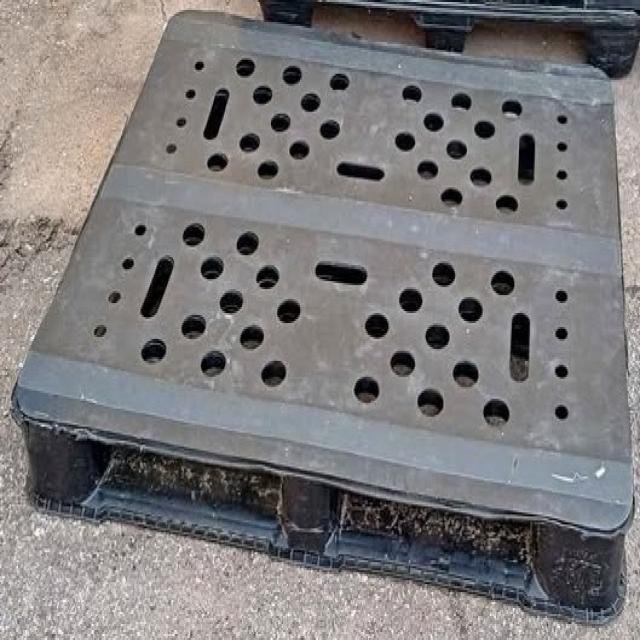igps: (8, 6, 634, 624)
